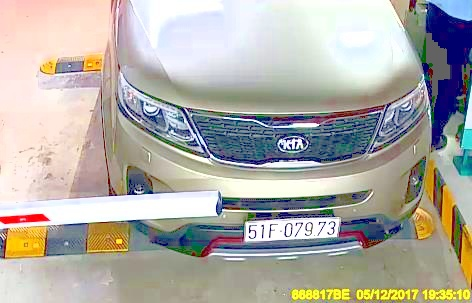plate: (242, 209, 344, 245)
